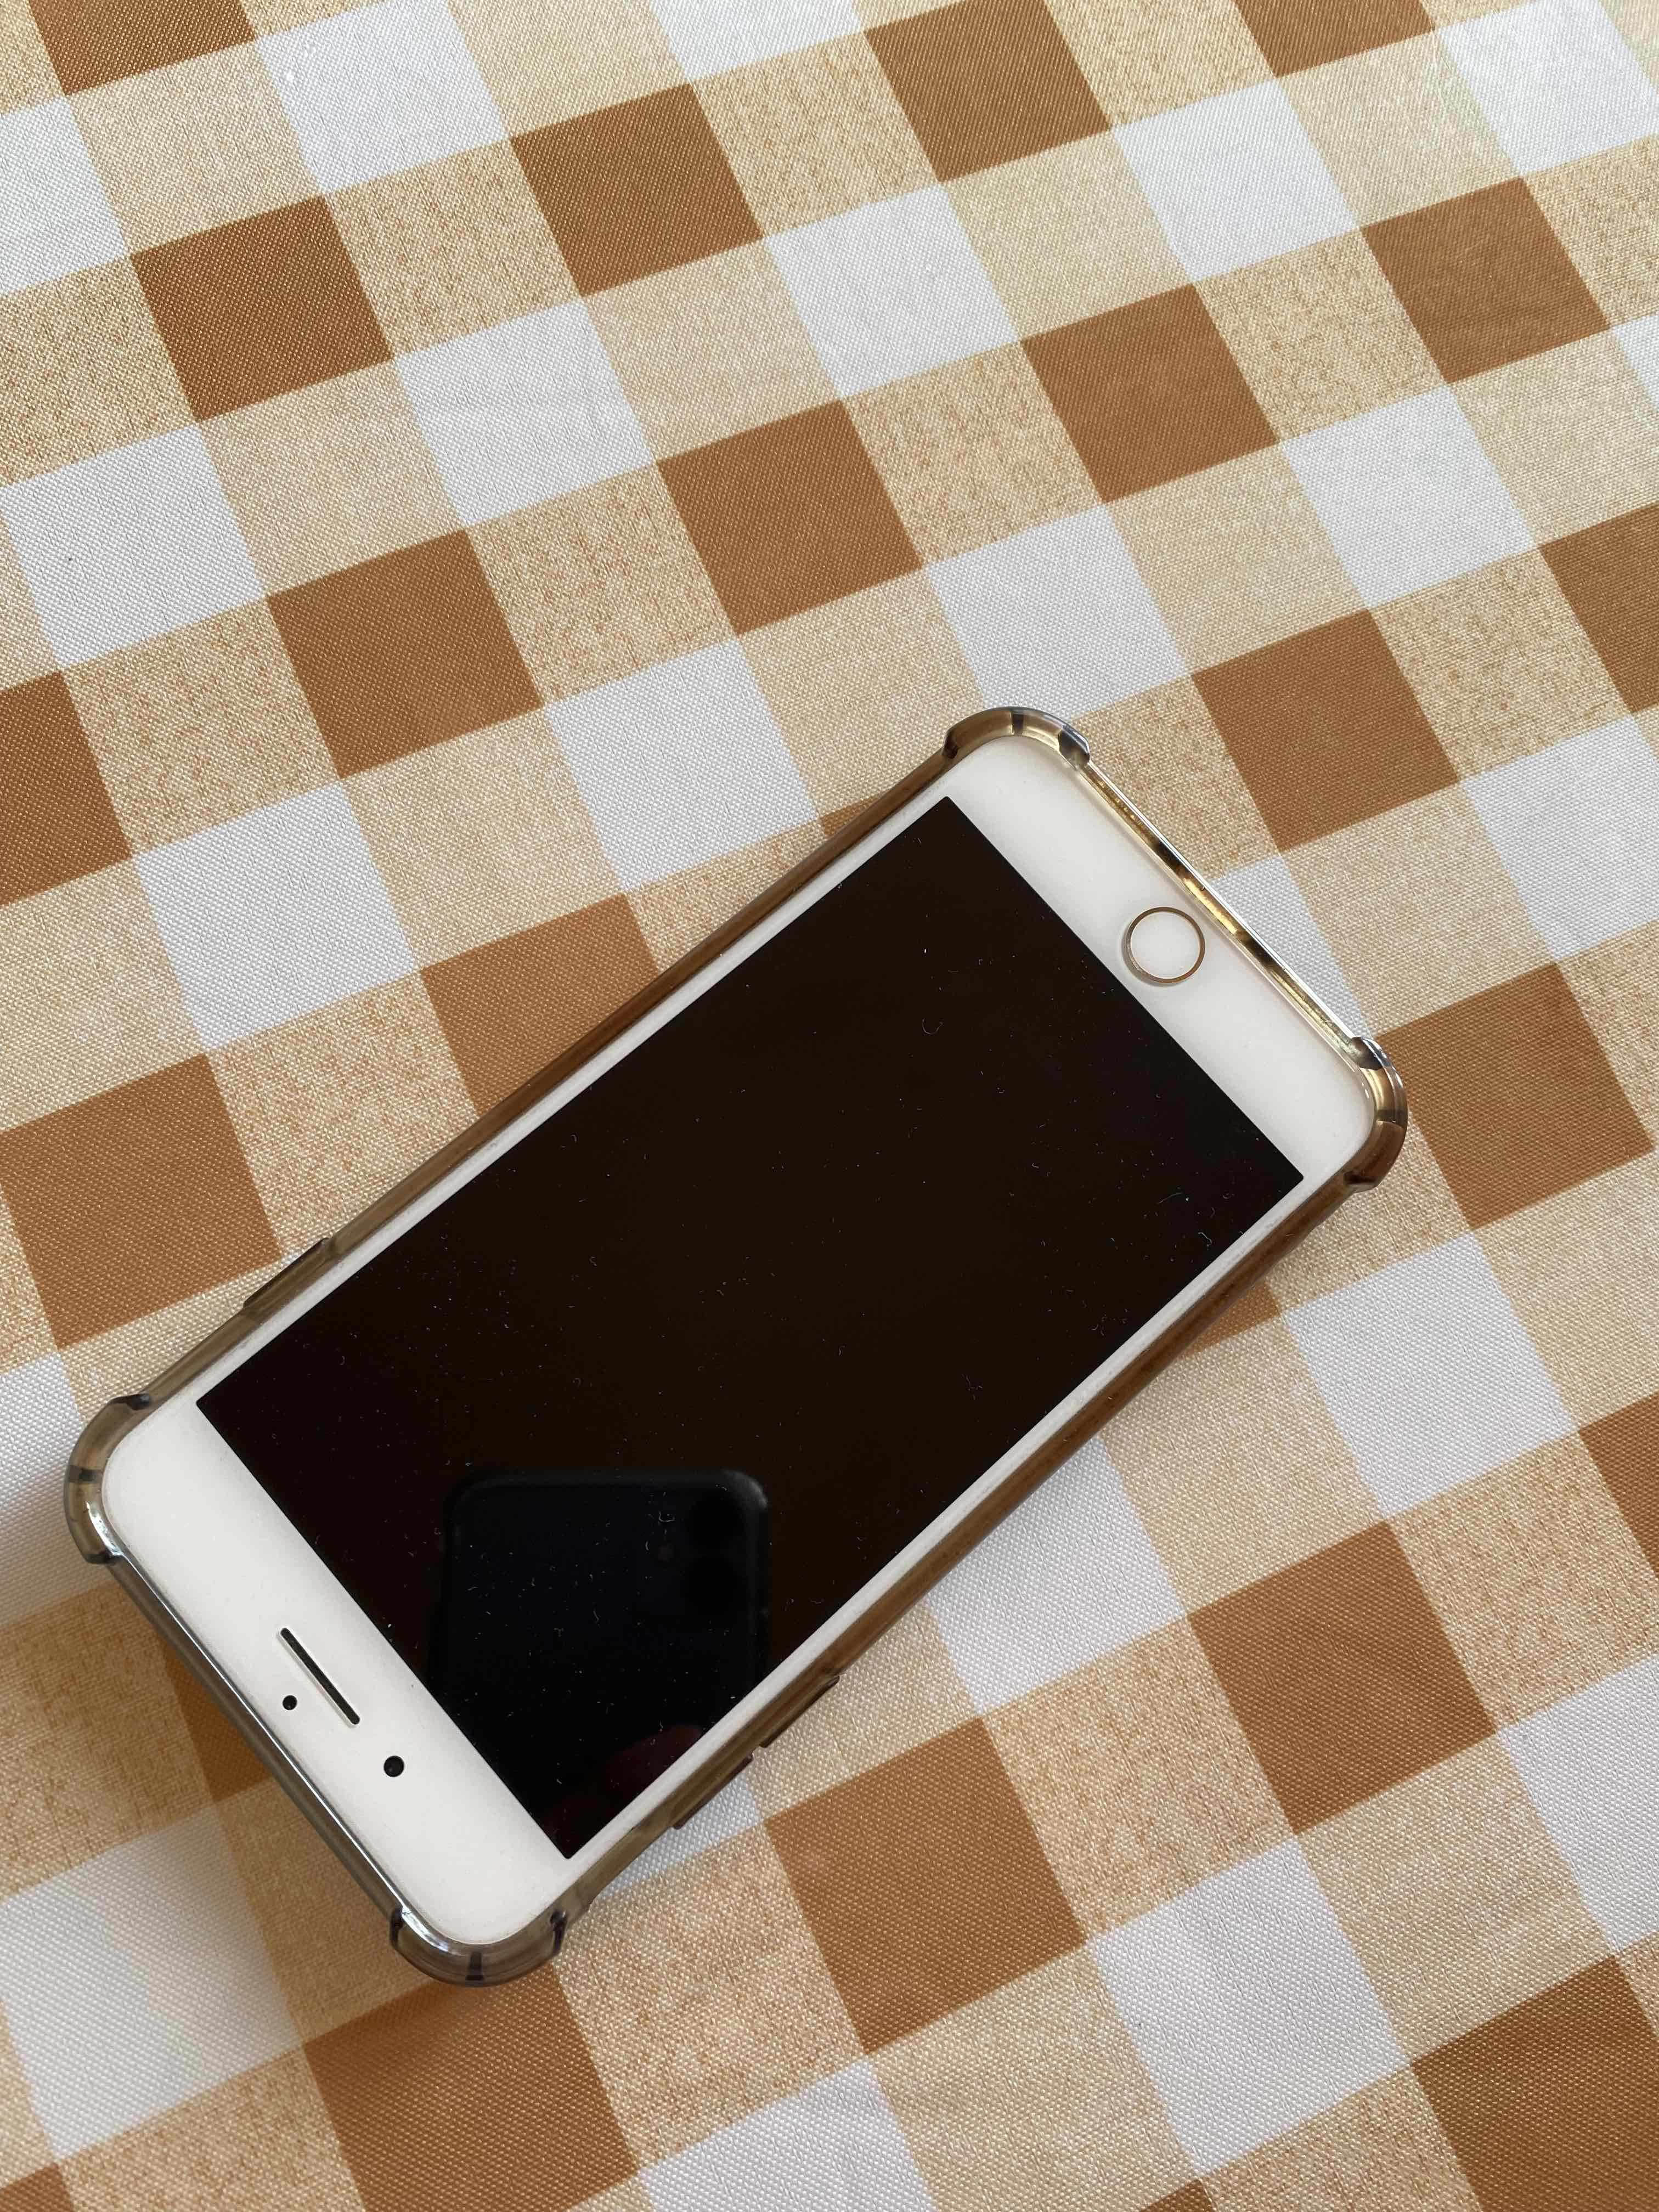Cell Phone: (71, 723, 1396, 1970)
